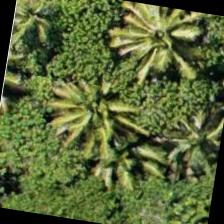Kelapa_Sawit: (41, 61, 144, 164), (78, 110, 181, 213), (113, 0, 212, 88), (145, 92, 223, 193)
